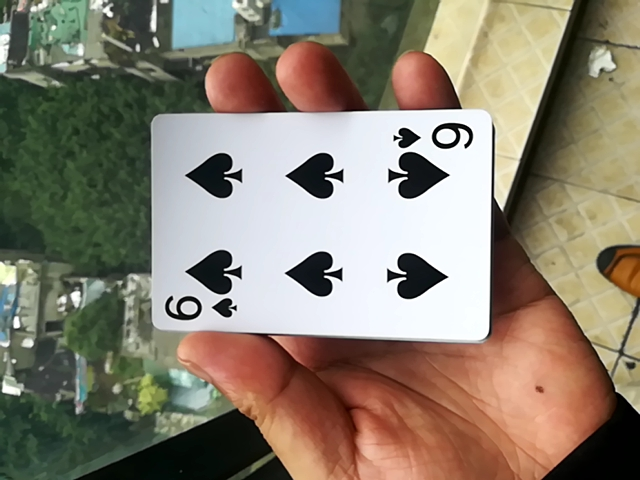ht 6: (135, 111, 486, 349)
